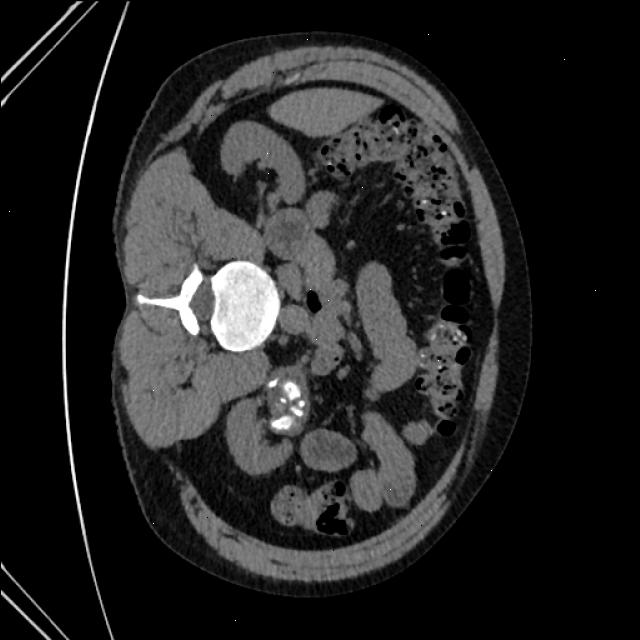kidneystone: (283, 382, 300, 400), (270, 416, 291, 430), (289, 400, 305, 418), (267, 379, 276, 388)
